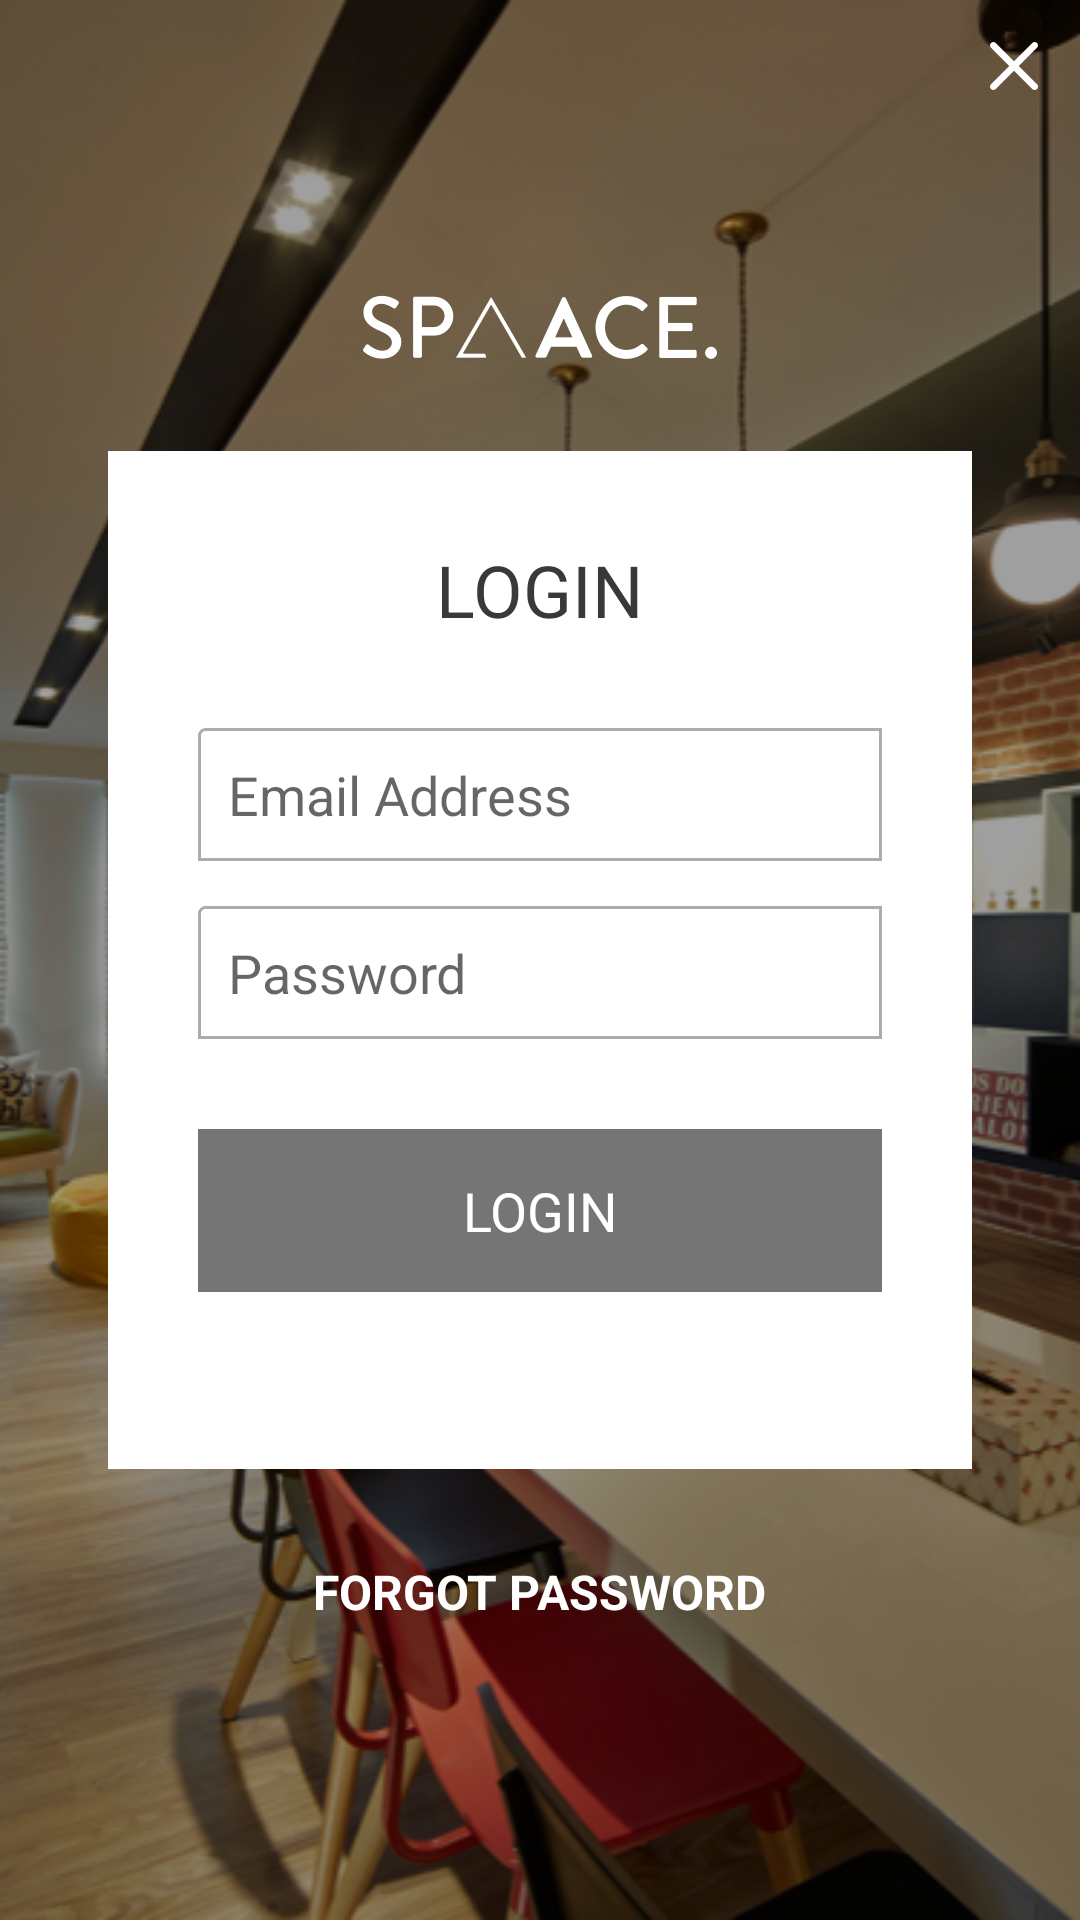

Locate icon controls on the screen. Image size 1080*1920, boxes as rect(x1, y1, x2, y2).
close: rect(978, 0, 1080, 132)
